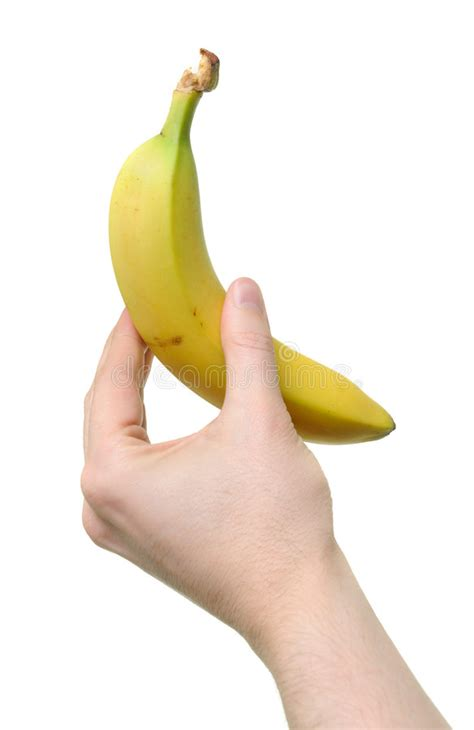banana: (105, 127, 401, 457)
